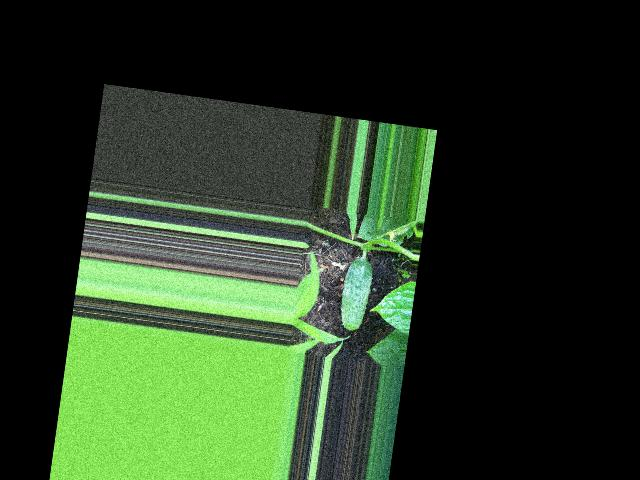cucumber: (336, 256, 374, 333)
